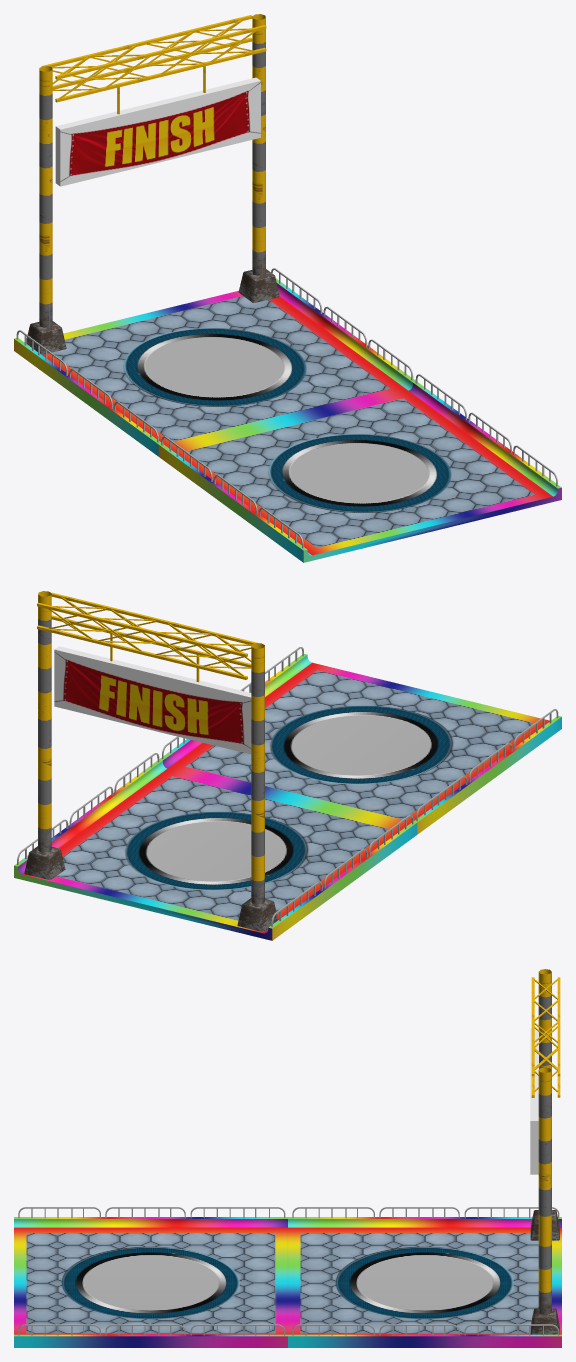
Rendered from Finish_Point-4.FBX.
The picture shows the model from 3 angles, top to bottom: view 1: azimuth 30°, elevation 25°; view 2: azimuth 150°, elevation 25°; view 3: azimuth 270°, elevation 25°; orthographic projection. The views are drawn at different scales.
Visible parts, largest first — view 1: Finish_Point-4; view 2: Finish_Point-4; view 3: Finish_Point-4.
Boxes of the visible parts, x1,y1,x2,y2 form: Finish_Point-4: [14, 14, 561, 562]; Finish_Point-4: [14, 591, 561, 940]; Finish_Point-4: [14, 969, 561, 1347].
Bounding box in the file's own units: 22808 × 23861 × 44288.
Materials: 2 (2 with a texture image).
